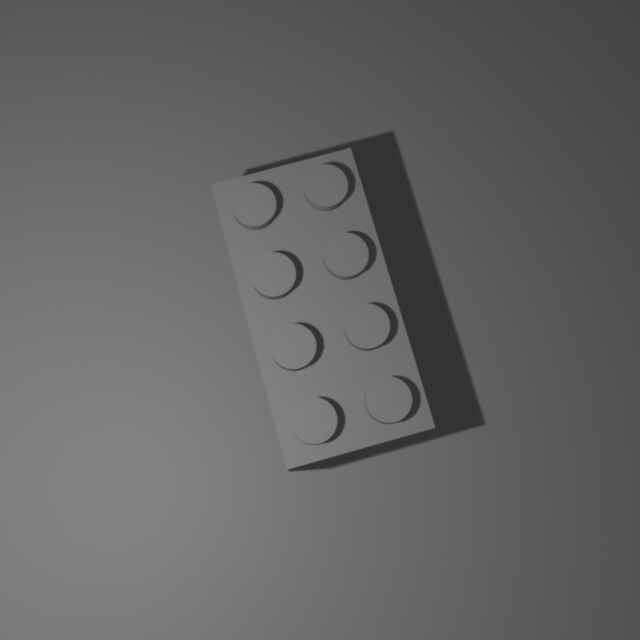lego_2x4: (209, 142, 437, 472)
